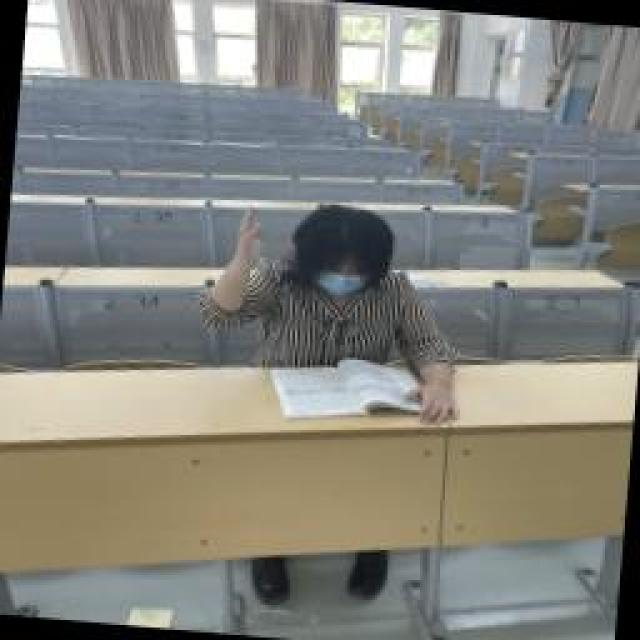study: (188, 193, 478, 425)
